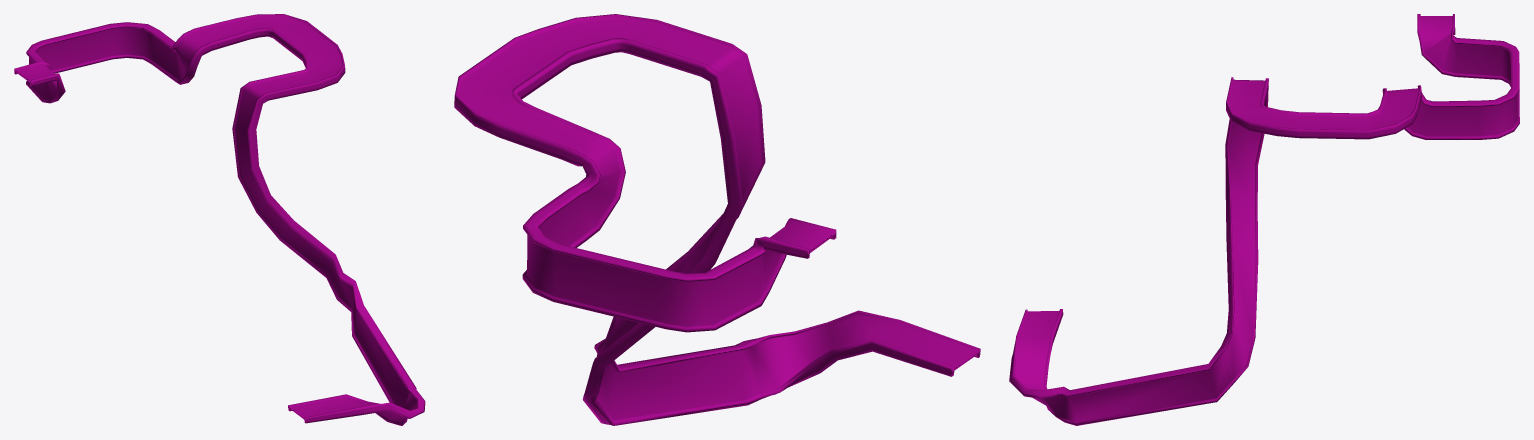
The model's file is magnet path.fbx.
3 renders of one model, left to right at view 1: azimuth 30°, elevation 25°; view 2: azimuth 150°, elevation 25°; view 3: azimuth 270°, elevation 25°, orthographic. The views are drawn at different scales.
Parts seen in each view (by area): view 1: polySurface189; view 2: polySurface189; view 3: polySurface189.
Boxes of the visible parts, x1,y1,x2,y2 form: polySurface189: (14, 14, 425, 425); polySurface189: (454, 14, 980, 425); polySurface189: (1009, 14, 1519, 425).
Bounding box in the file's own units: 15.86 × 17.36 × 25.6.
